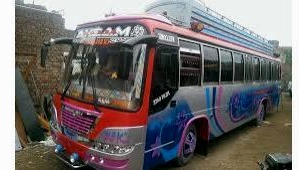bus: (38, 2, 281, 170)
